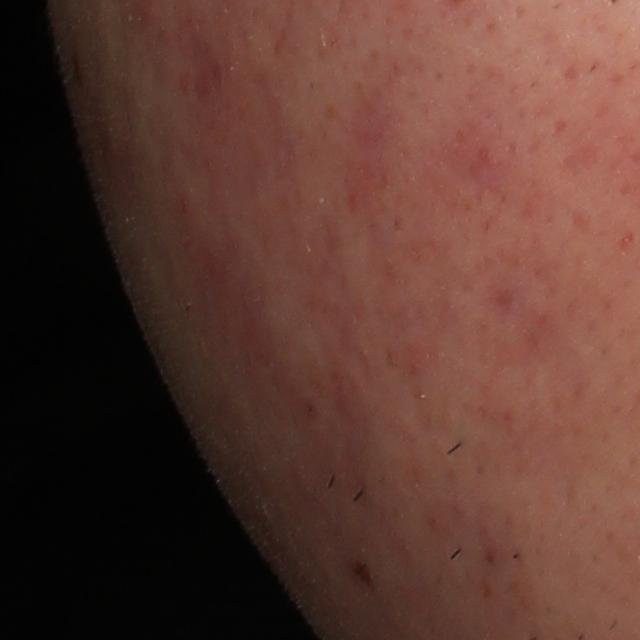nevus: (345, 558, 374, 592)
